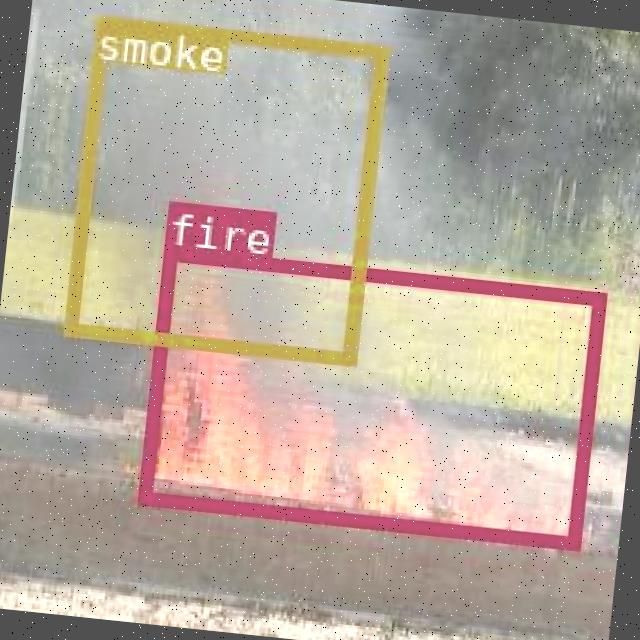fire: (136, 243, 604, 547)
smoke: (62, 13, 385, 362)
